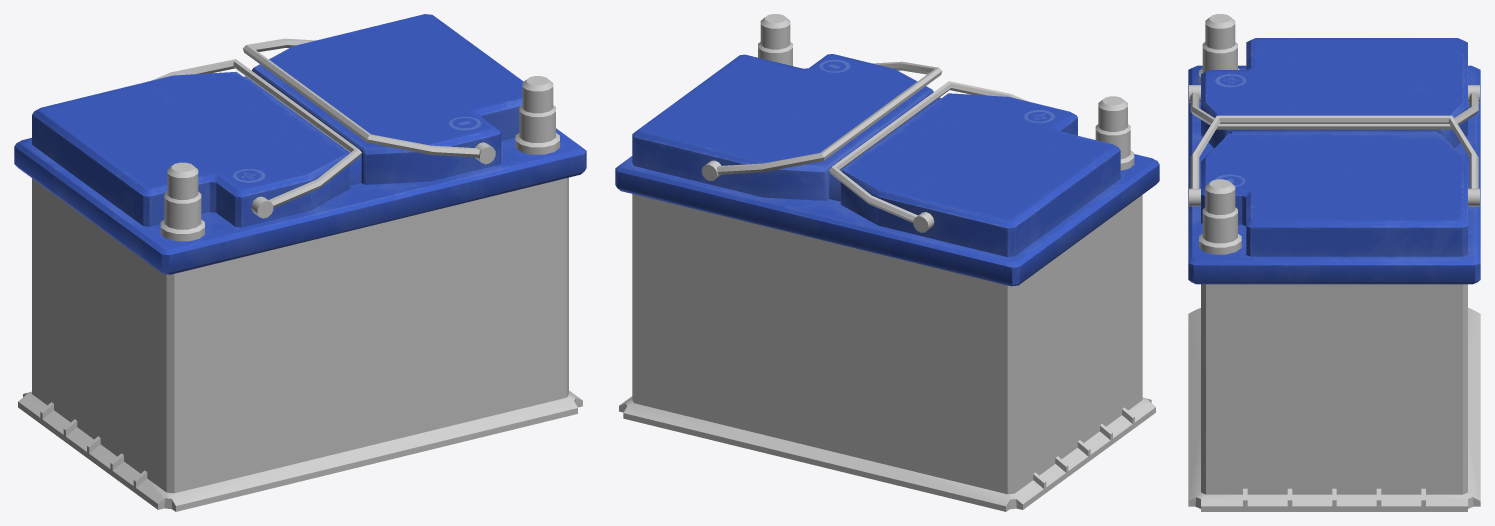
The model's file is CarBattery.fbx.
3 views of the same model, side by side, from view 1: azimuth 30°, elevation 25°; view 2: azimuth 150°, elevation 25°; view 3: azimuth 270°, elevation 25° (orthographic). The views are drawn at different scales.
Parts seen in each view (by area): view 1: Mesh; view 2: Mesh; view 3: Mesh.
Boxes of the visible parts, box(x1,y1,x2,y2) form: Mesh: box(14, 14, 586, 511); Mesh: box(615, 14, 1159, 511); Mesh: box(1188, 14, 1480, 511).
Bounding box in the file's own units: 52.9 × 38.88 × 33.
